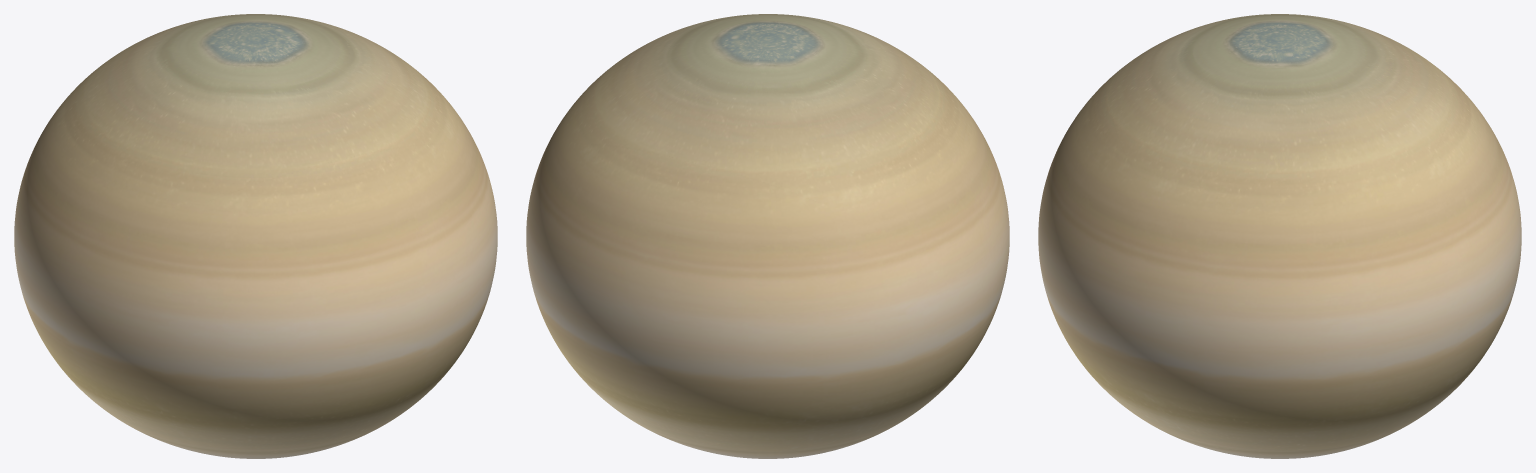
Rendered from saturn.glb.
3 renders of one model, left to right at view 1: azimuth 30°, elevation 25°; view 2: azimuth 150°, elevation 25°; view 3: azimuth 270°, elevation 25°, orthographic.
Parts seen in each view (by area): view 1: Saturn_Oblate; view 2: Saturn_Oblate; view 3: Saturn_Oblate.
Part boxes in pixels (x1,y1,x2,y2): Saturn_Oblate: (14, 14, 497, 458); Saturn_Oblate: (526, 14, 1009, 458); Saturn_Oblate: (1038, 14, 1521, 458).
Size of the model in its own units: 2.07 by 1.87 by 2.07.
1 material, 1 textured.
